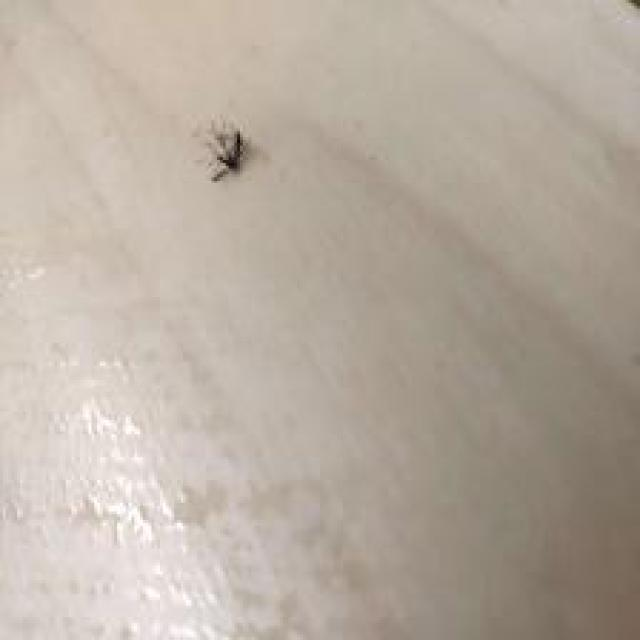Aedes albopictus: (204, 118, 247, 182)
